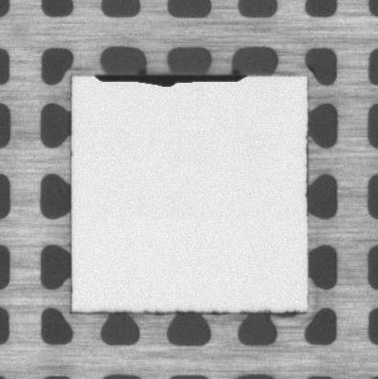DIE_BROKEN: (90, 70, 249, 87)
